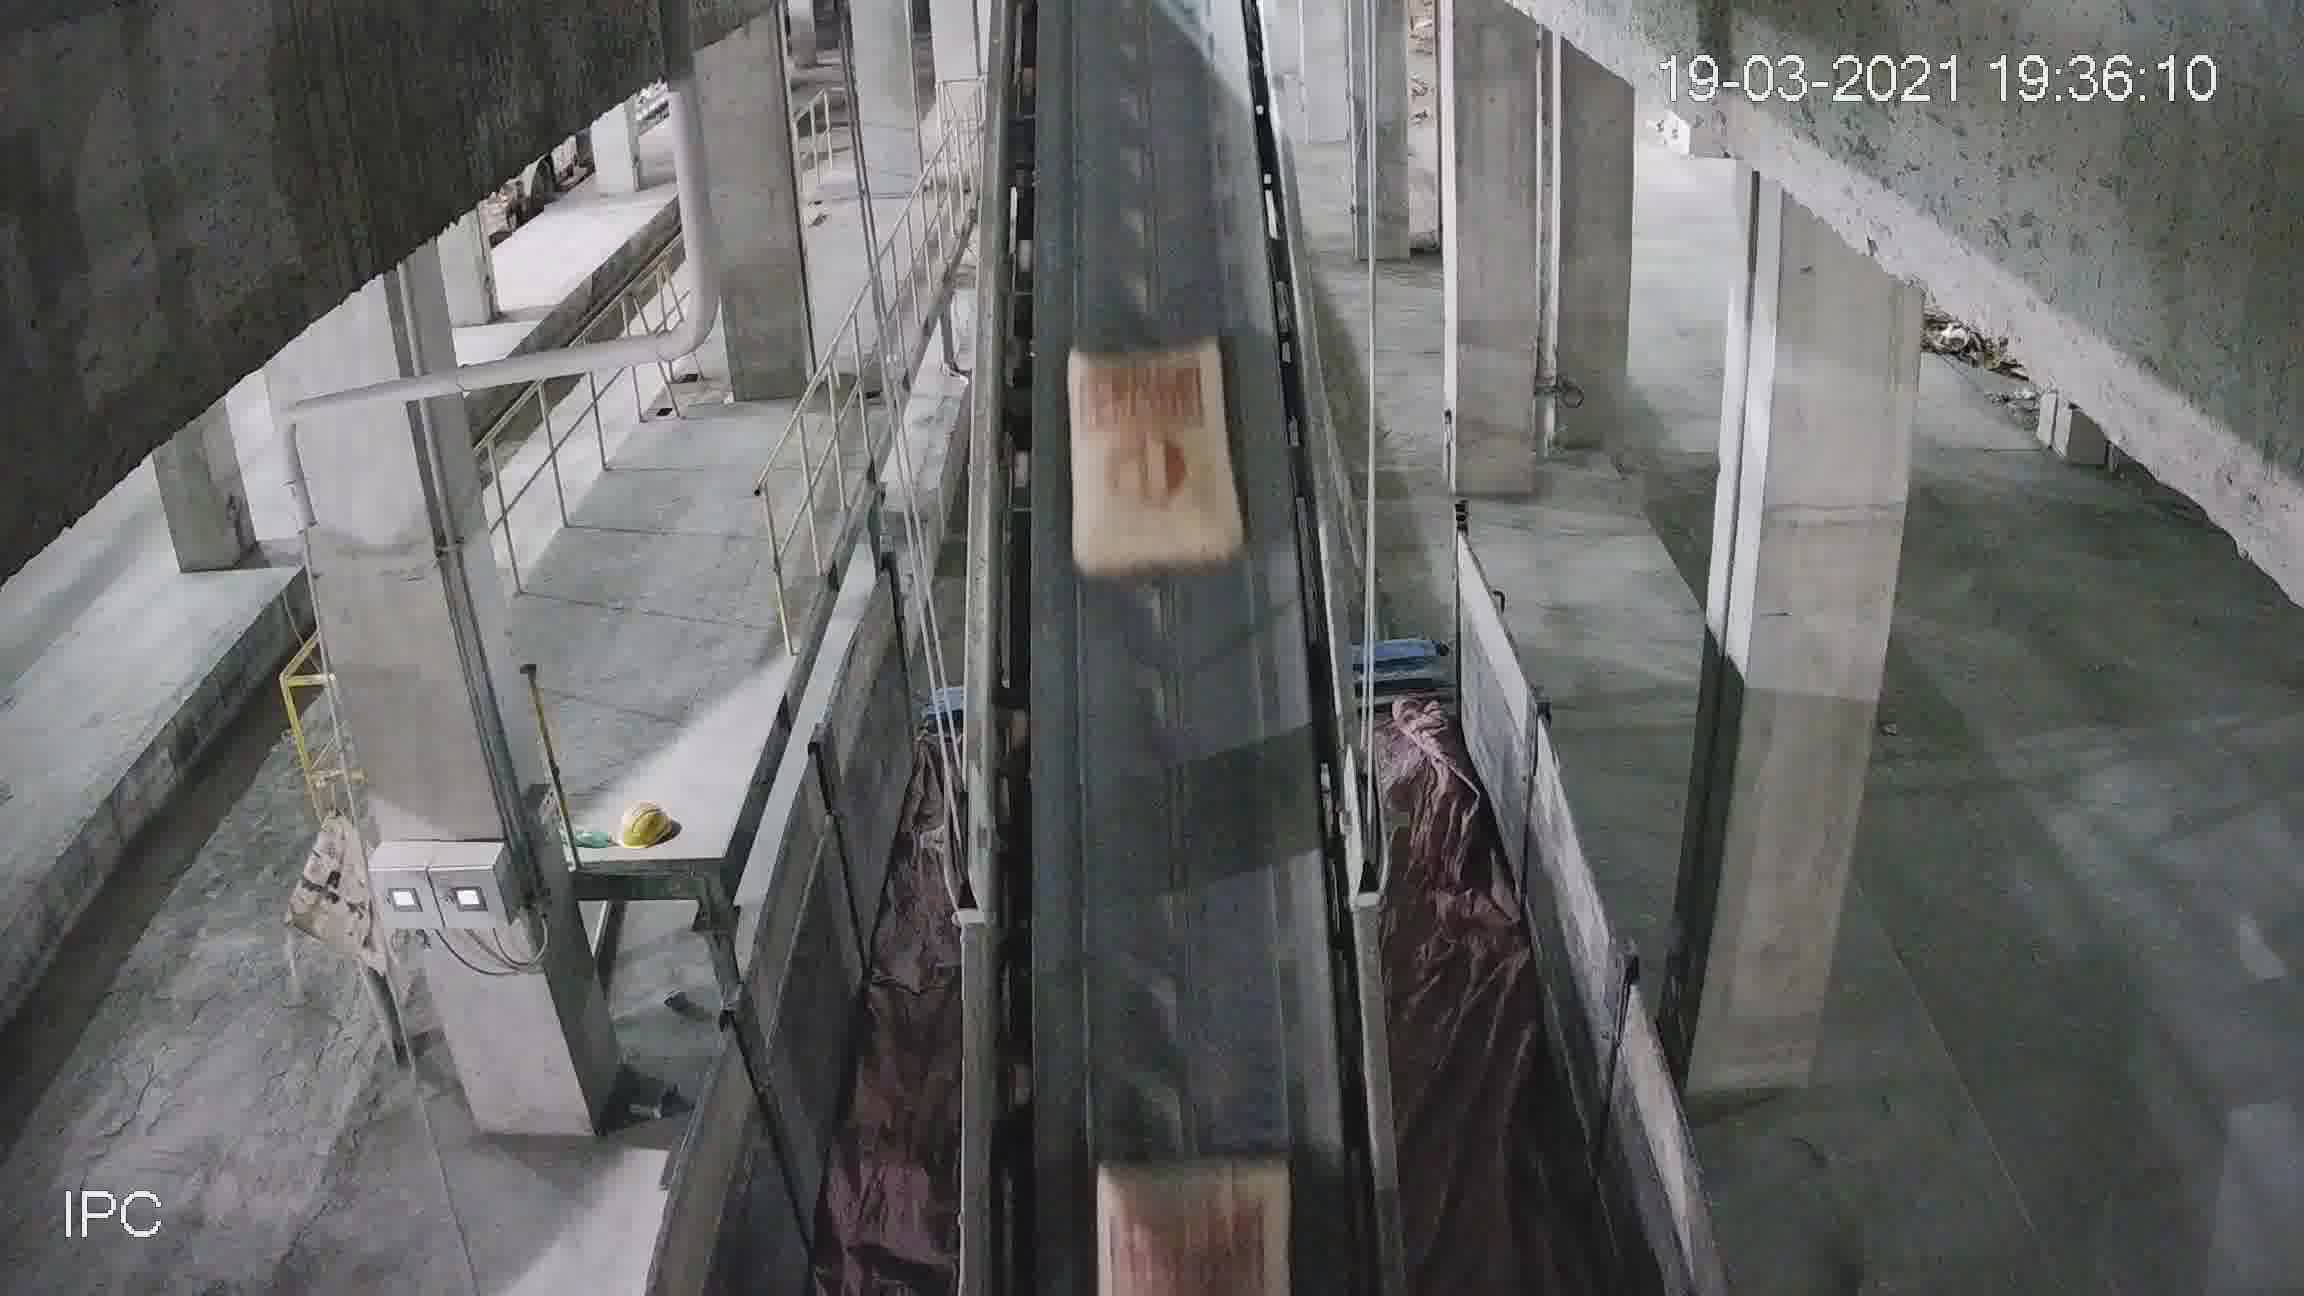bag: (1070, 351, 1234, 567), (1093, 1163, 1288, 1283)
belt: (961, 46, 1381, 1296)
